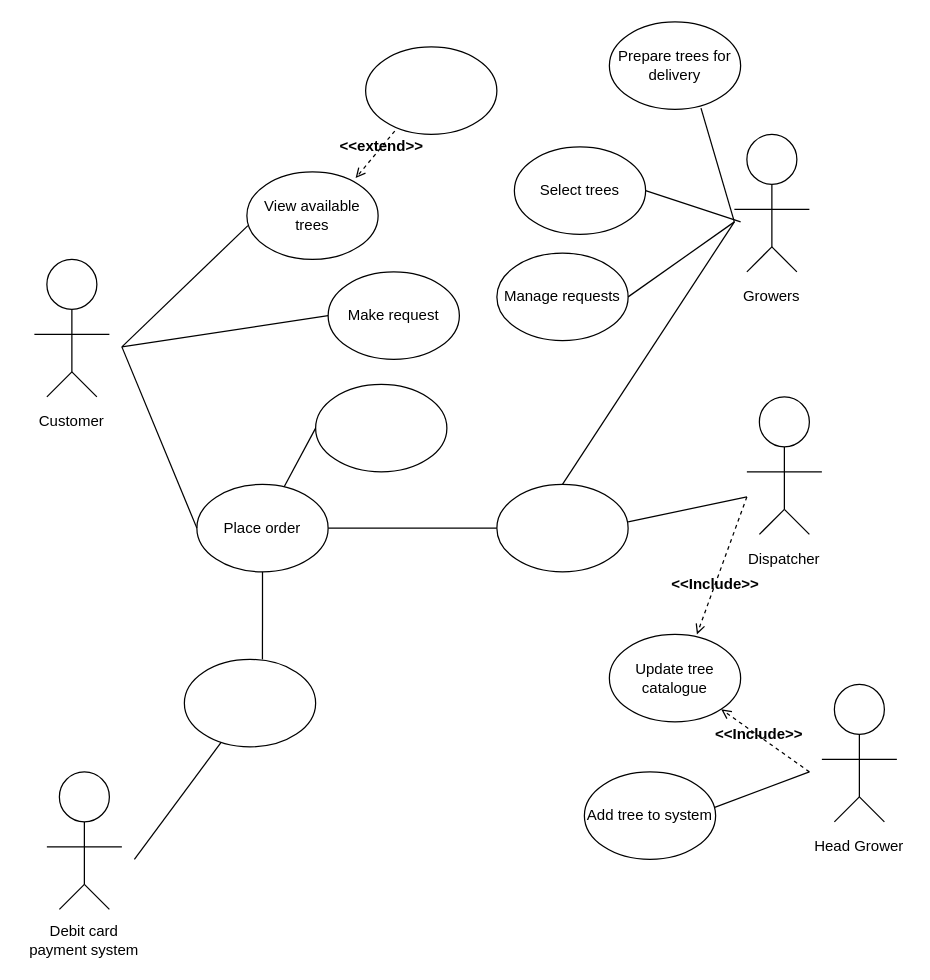
This 930x980 diagram has some shape labels left out. The shapes that lost their labels are listed below. From the top down, each one's box as (x1, y1, x2, y2) in pixels, then its label:
(364, 46, 497, 134): Provide close alternative
(314, 383, 447, 472): Register/Login
(496, 483, 628, 572): Manage dispatch list
(183, 658, 316, 747): Make Payment
